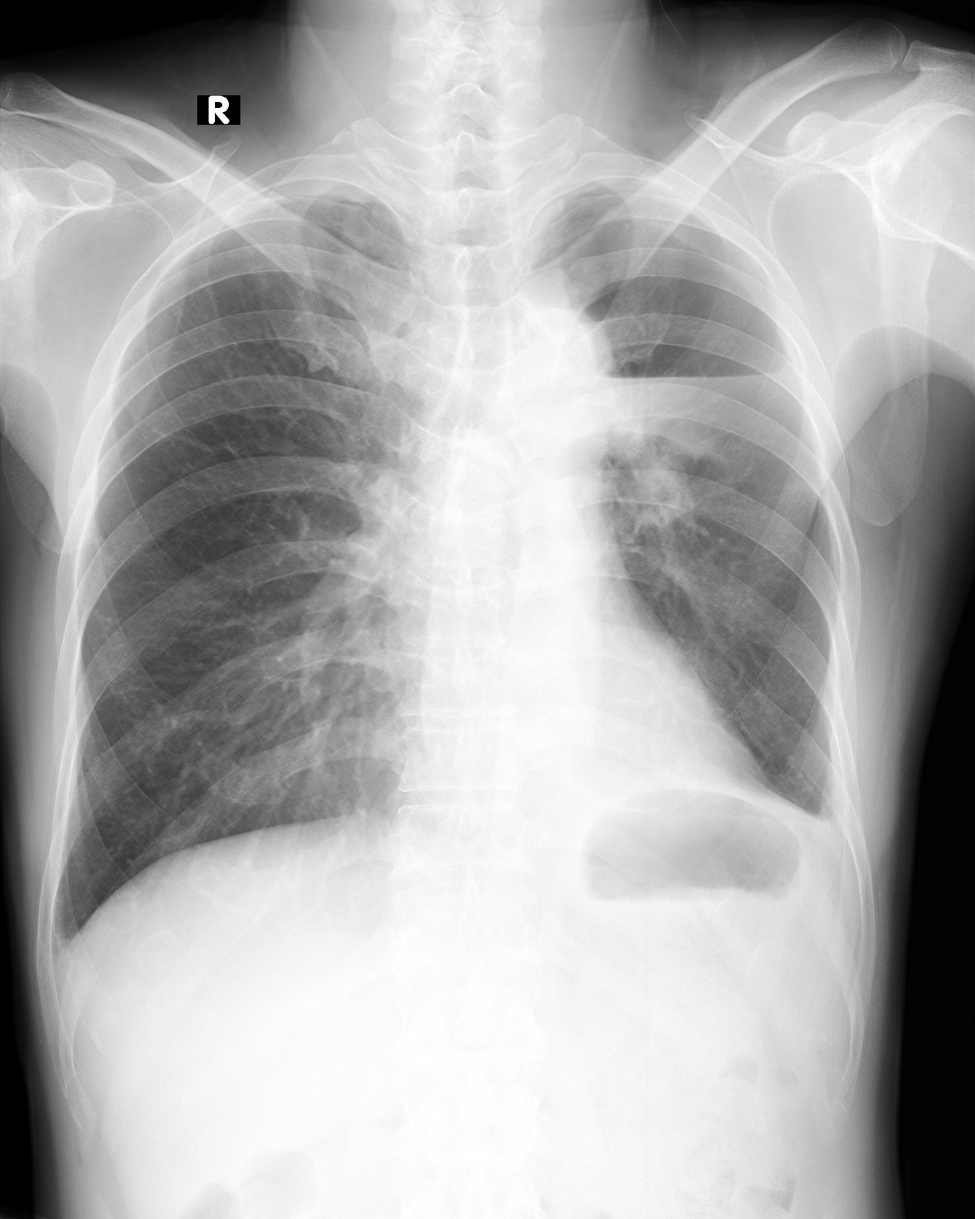Pleural thickening: (625, 177, 776, 301), (791, 780, 853, 855), (262, 171, 381, 204)
